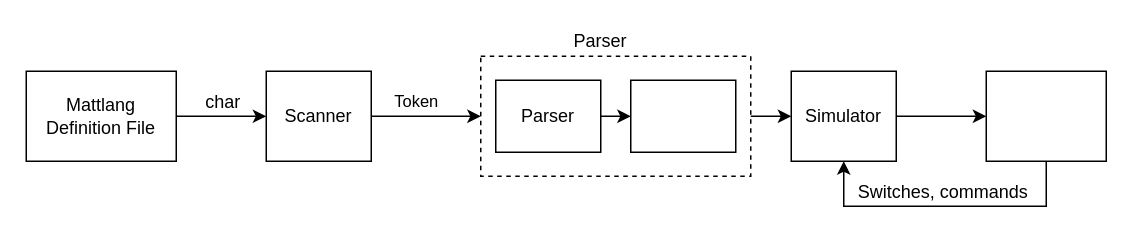
Some shapes in this 1133 by 245 pixel diagram are drawn without their labels. Each missing label, with the centre of its shape:
"GUI" belongs at [1045,115].
"Network Builder" belongs at [682,115].
